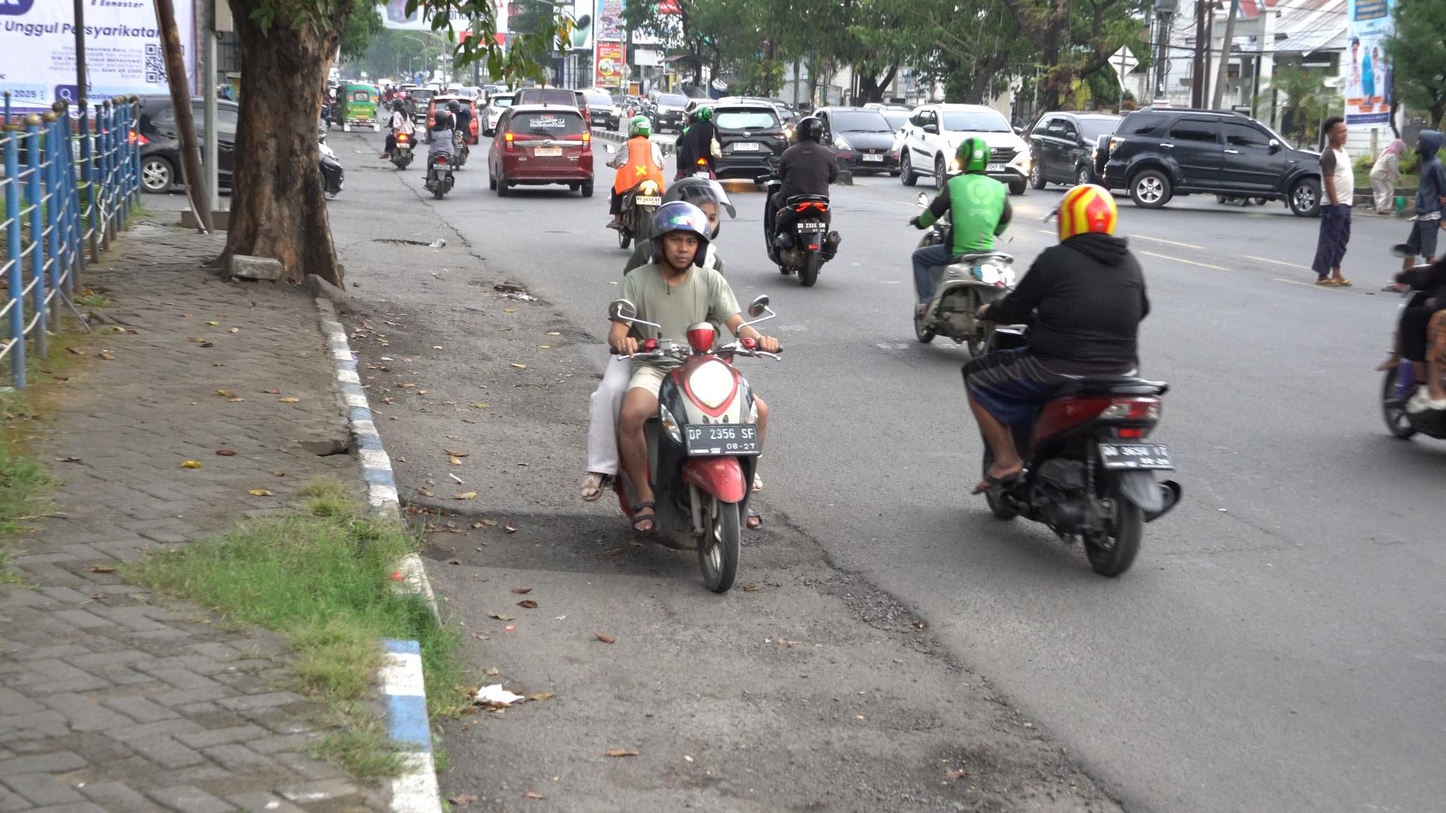number-plate: (683, 422, 762, 460)
